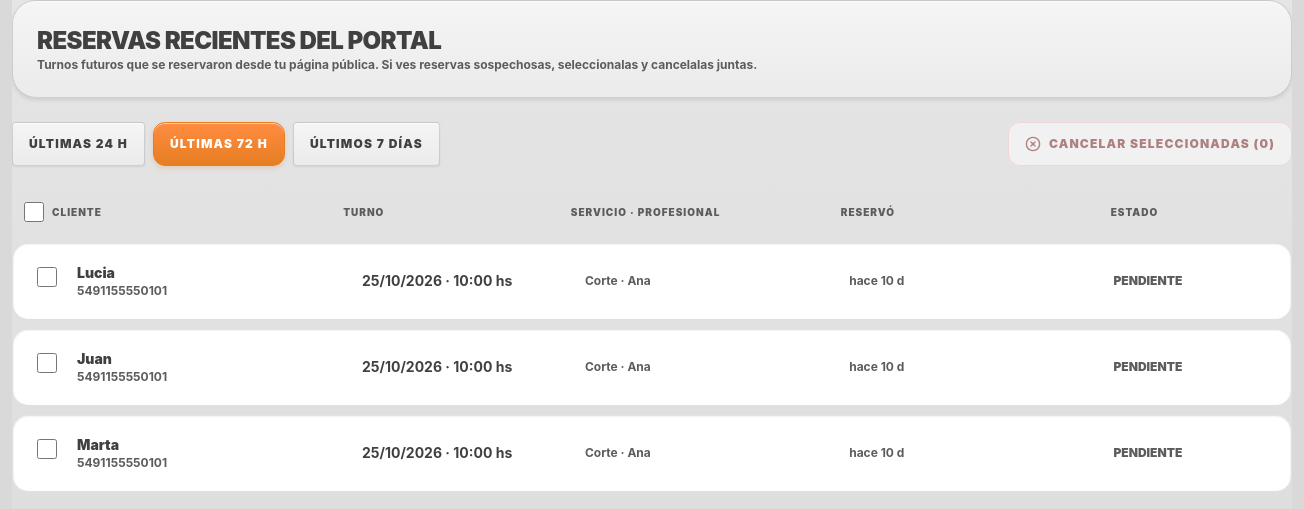
Test: PortalBookingsContainer › "Seleccionar todas" elige todas y un segundo toque las suelta
What coordinates should you click on to do the following:
click the checkbox named "Seleccionar todas"
I would click on:
 (34, 212)
Its box is x1=24 y1=202 x2=44 y2=222.
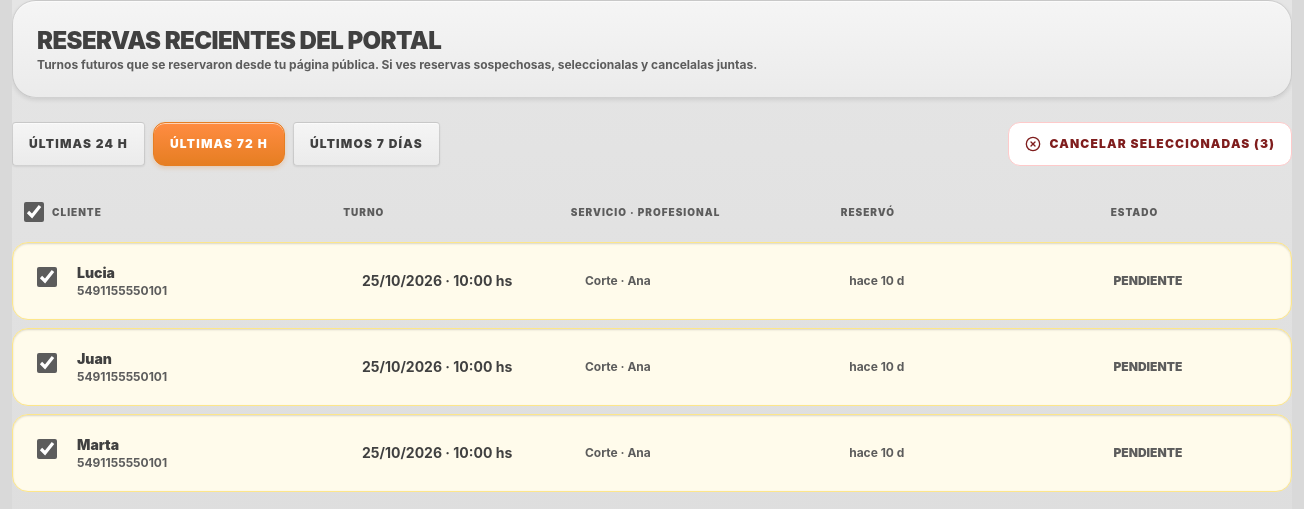
Expected: the button "Cancelar seleccionadas (3)" is enabled, x1=1008 y1=122 x2=1292 y2=166
What coordinates should you click on to do the following:
click the checkbox named "Seleccionar todas"
I would click on:
 (34, 212)
Its box is x1=24 y1=202 x2=44 y2=222.
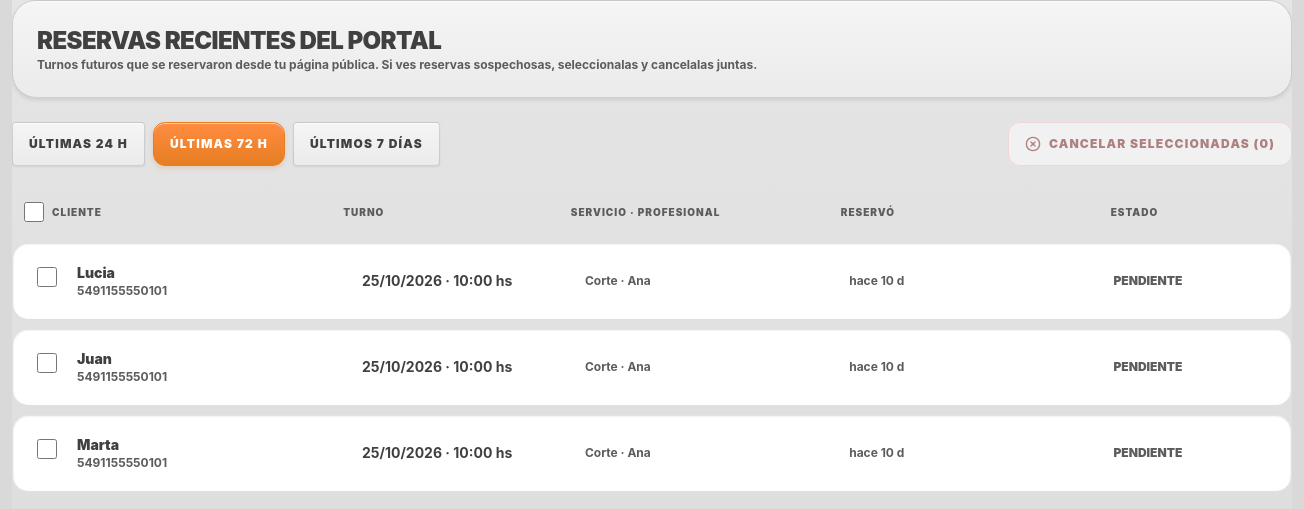
Expected: the button "Cancelar seleccionadas (0)" is disabled, x1=1008 y1=122 x2=1292 y2=166
